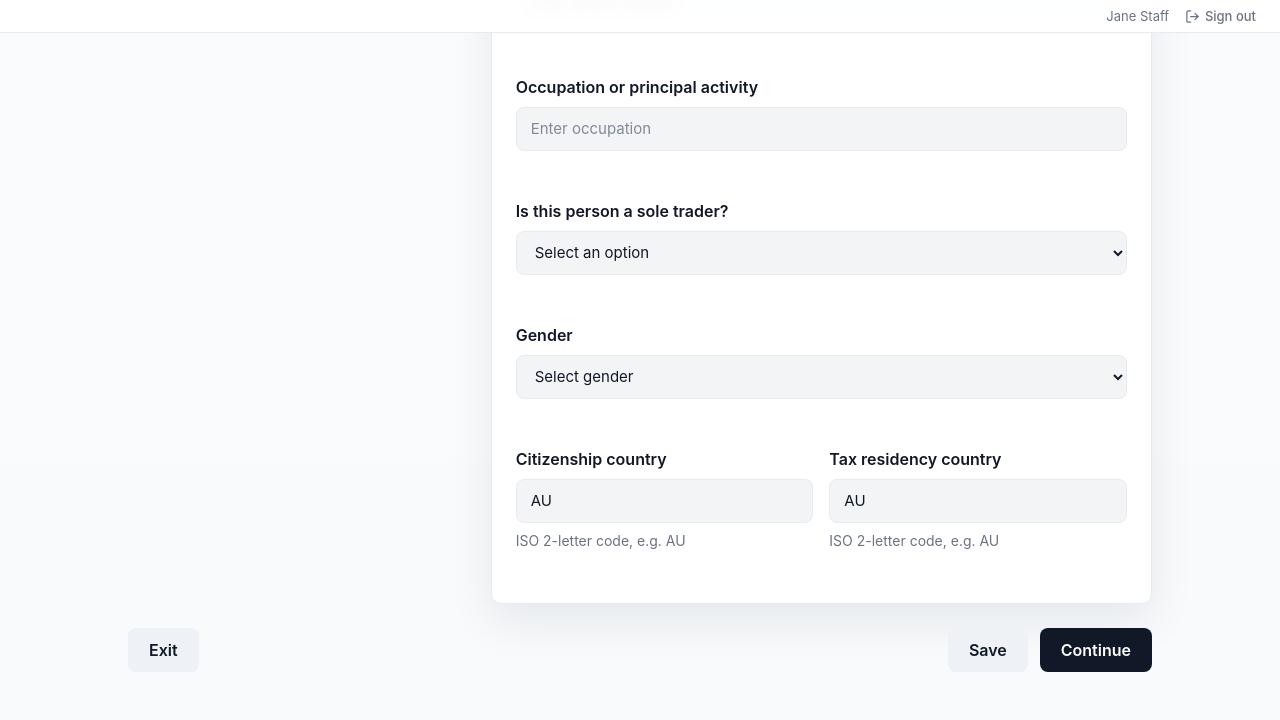
Test case: PartyDetailsPage › individual: shows validation errors when fullLegalName, DOB, phone, occupation, gender, citizenshipCountryCode, or taxResidencyCountryCode are empty
(page scrolled)
Clear the field labelled "Citizenship country": (665, 501) [516, 479, 813, 523]
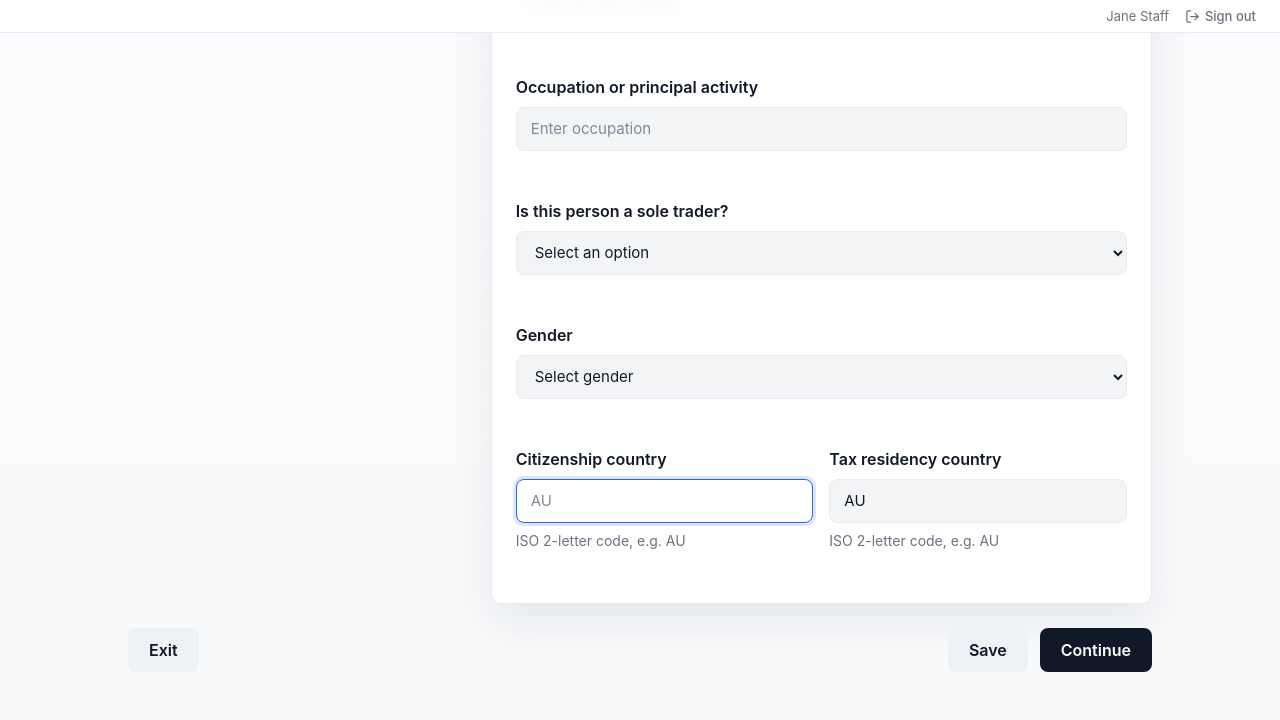
Clear the field labelled "Tax residency country": (978, 501) [829, 479, 1127, 523]
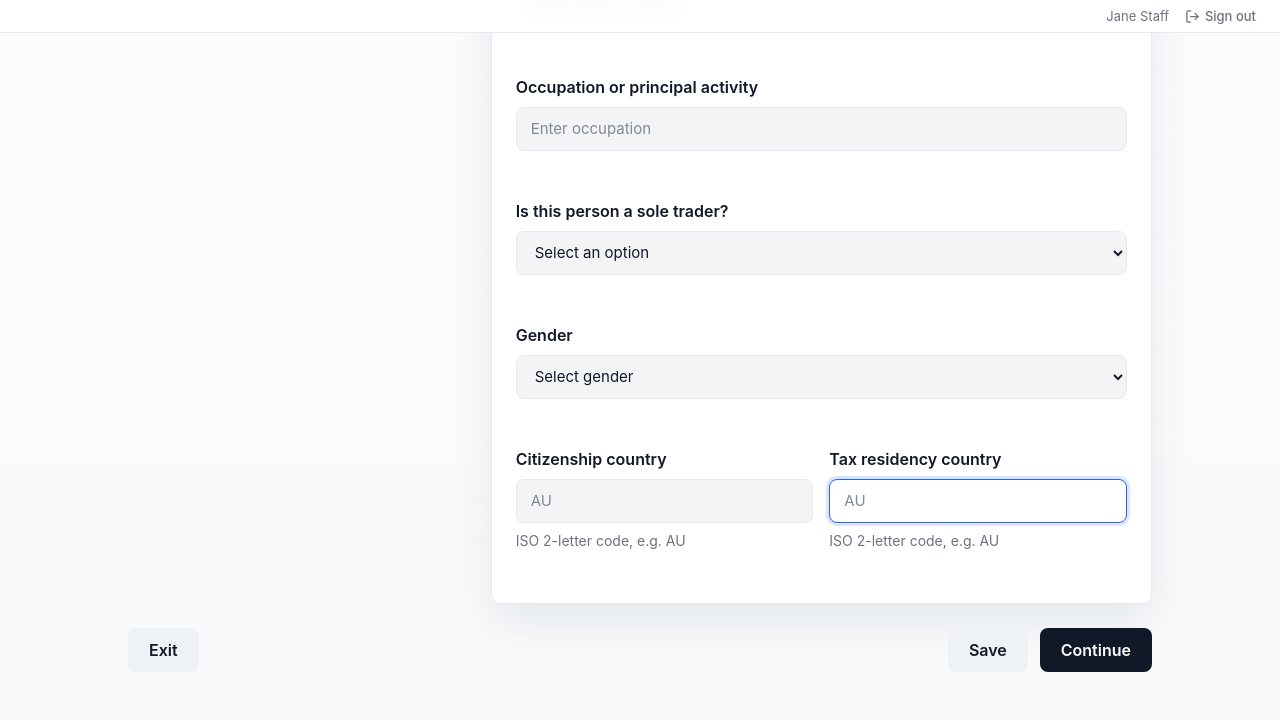
Click the button "Save": (988, 650) [948, 628, 1028, 672]
(page scrolled)
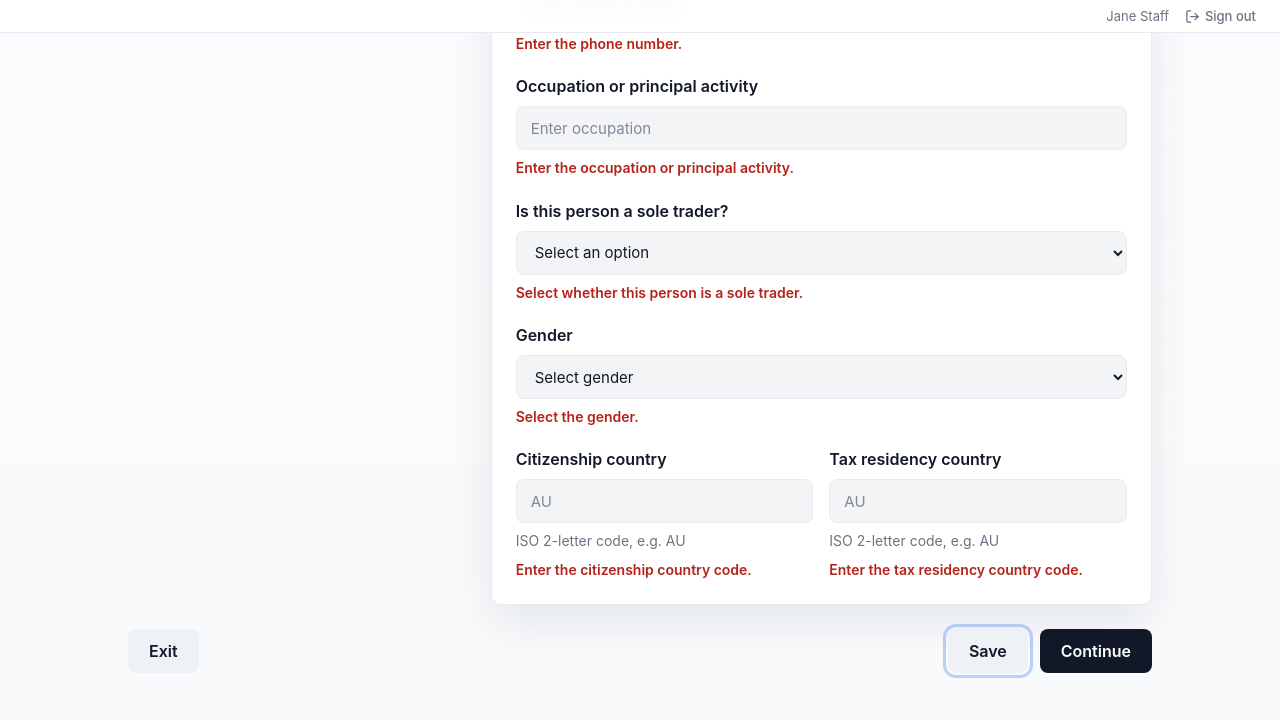
expect the text "Enter the phone number." is shown: met, box [516, 35, 682, 52]
expect the text "Enter the occupation or principal activity." is shown: met, box [516, 159, 794, 176]
expect the text "Select the gender." is shown: met, box [516, 408, 639, 425]
